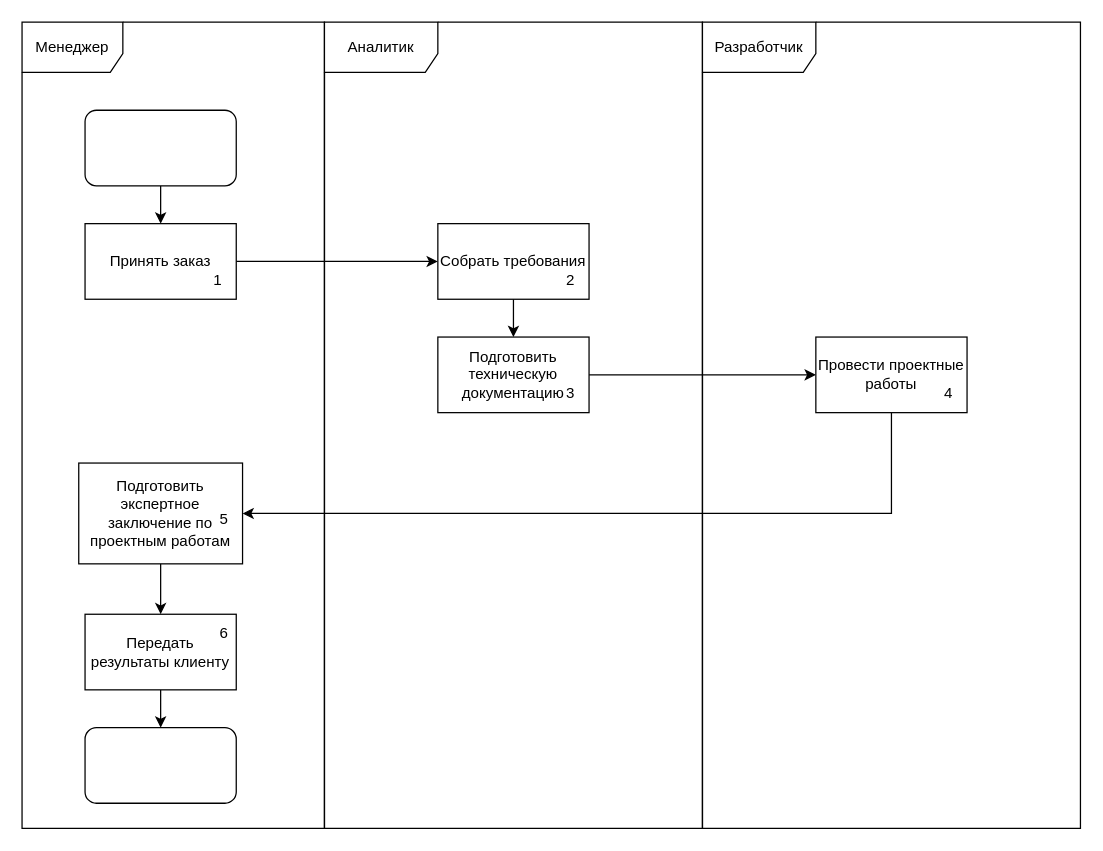
Image size: 1103x851. Some labels were removed from this diagram. Each missing label, with the centre of its shape:
Конец: (x=160, y=764)
Начало: (x=160, y=147)
